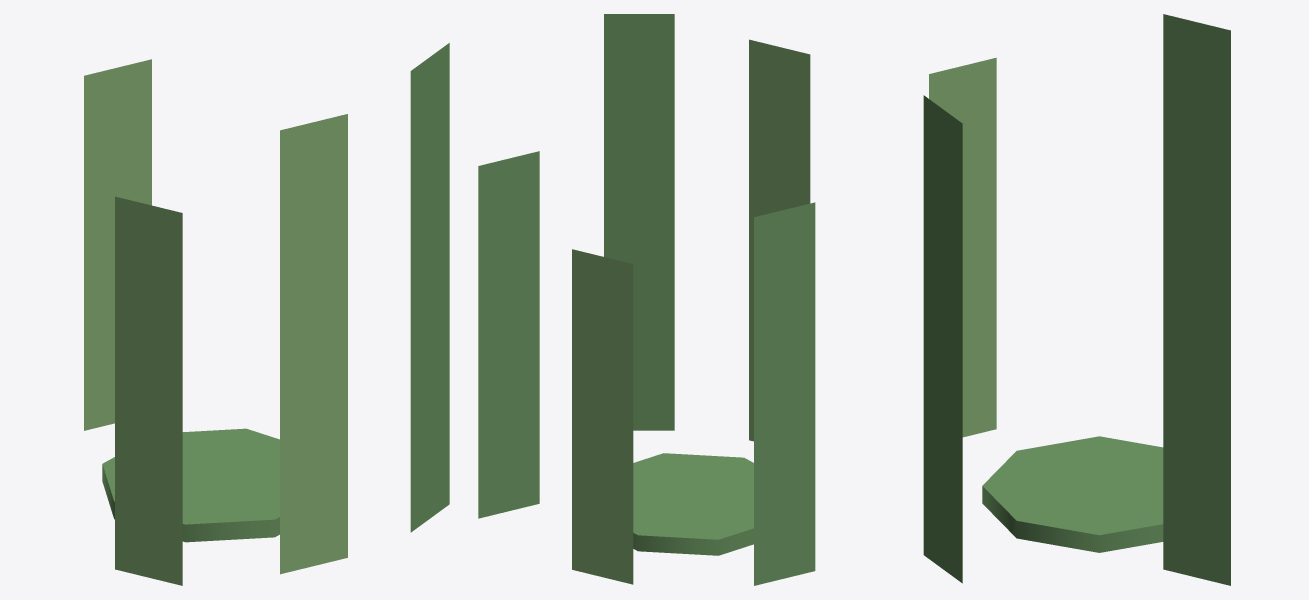
File: grass_tuft.glb
3 views of the same model, side by side, from view 1: azimuth 30°, elevation 25°; view 2: azimuth 150°, elevation 25°; view 3: azimuth 270°, elevation 25° (orthographic). The views are drawn at different scales.
Visible parts, largest first — view 1: blade_1, blade_5, blade_6, blade_3, base; view 2: blade_6, blade_4, blade_2, blade_3, base, blade_1; view 3: blade_2, blade_6, base, blade_5, blade_4.
Boxes of the visible parts, box(x1,y1,x2,y2) form: blade_1: box(280, 114, 347, 574); blade_5: box(115, 196, 182, 585); blade_6: box(410, 43, 449, 532); blade_3: box(84, 59, 151, 430); base: box(102, 428, 279, 542); blade_6: box(604, 14, 674, 430); blade_4: box(754, 202, 815, 585); blade_2: box(478, 151, 539, 518); blade_3: box(572, 249, 633, 584); base: box(633, 453, 753, 555); blade_1: box(749, 39, 810, 441); blade_2: box(1163, 180, 1230, 585); blade_6: box(923, 95, 962, 583); base: box(982, 436, 1163, 552); blade_5: box(929, 57, 996, 437); blade_4: box(1163, 14, 1230, 196).
Bounding box in the file's own units: 0.2 × 0.26 × 0.2.
